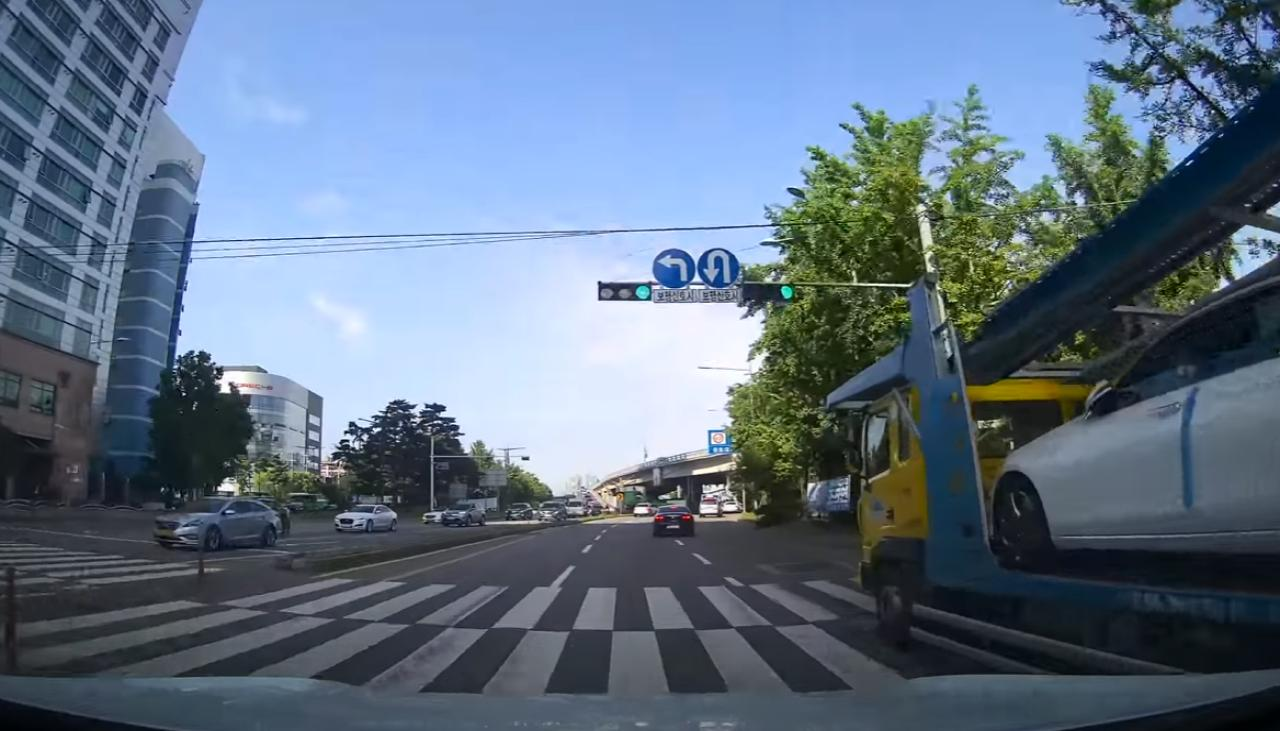Green Light: (634, 284, 652, 302), (778, 284, 794, 300)
